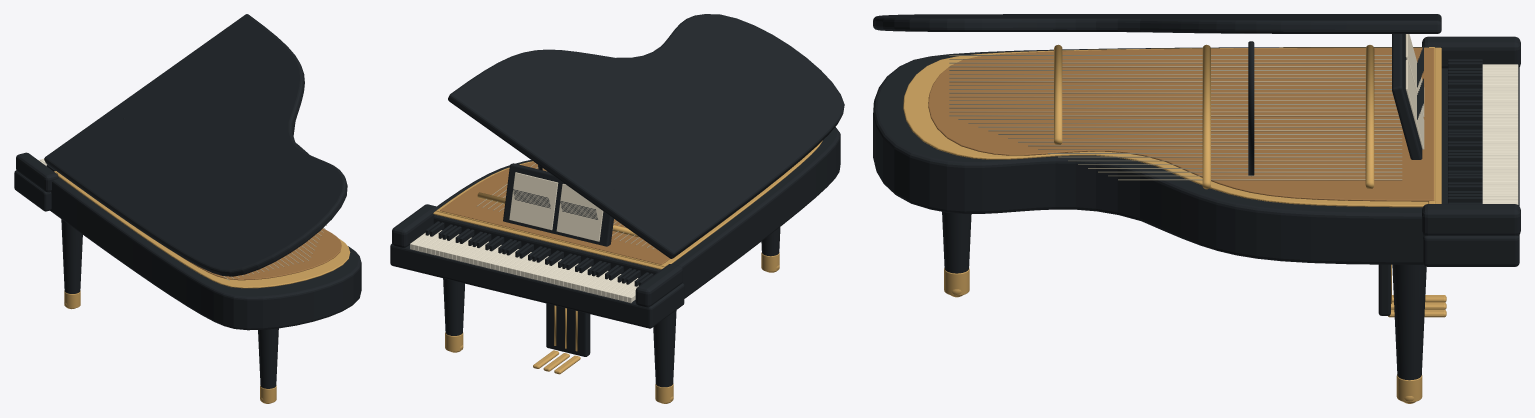
The model's file is grand-piano.glb.
The picture shows the model from 3 angles, left to right: view 1: azimuth 30°, elevation 25°; view 2: azimuth 150°, elevation 25°; view 3: azimuth 270°, elevation 25°; orthographic projection. The views are drawn at different scales.
Visible parts, largest first — view 1: Open sculpted piano lid.001, Grand piano sculpted rim.001, Gold cast iron frame.001, Maple resonant soundboard.001, Tapered piano leg.003, Tapered piano leg.005, Keyboard cheek.002, Keyboard bed.001; view 2: Open sculpted piano lid.001, Grand piano sculpted rim.001, Keyboard bed.001, Maple resonant soundboard.001, Score page.003, Gold cast iron frame.001, Pedal lyre.001, Score page.002, Music desk.001, Tapered piano leg.003, Keyboard cheek.002, Keyboard cheek.003 (+3 smaller); view 3: Maple resonant soundboard.001, Grand piano sculpted rim.001, Open sculpted piano lid.001, Gold cast iron frame.001, Keyboard bed.001, Tapered piano leg.004, Keyboard cheek.003, Keyboard cheek.002, Music desk.001, Tapered piano leg.005, Frame brace.003, Frame brace.004 (+22 smaller).
Boxes of the visible parts, x1,y1,x2,y2 form: Open sculpted piano lid.001: [44, 14, 347, 276]; Grand piano sculpted rim.001: [50, 142, 361, 330]; Gold cast iron frame.001: [54, 171, 350, 288]; Maple resonant soundboard.001: [174, 228, 341, 280]; Tapered piano leg.003: [61, 219, 82, 293]; Tapered piano leg.005: [258, 328, 278, 388]; Keyboard cheek.002: [16, 152, 58, 192]; Keyboard bed.001: [14, 170, 51, 211]; Open sculpted piano lid.001: [448, 14, 844, 258]; Grand piano sculpted rim.001: [433, 127, 840, 298]; Keyboard bed.001: [390, 230, 684, 328]; Maple resonant soundboard.001: [440, 162, 669, 264]; Score page.003: [509, 172, 558, 230]; Gold cast iron frame.001: [433, 140, 822, 269]; Pedal lyre.001: [546, 303, 590, 356]; Score page.002: [556, 184, 603, 241]; Music desk.001: [503, 163, 614, 246]; Tapered piano leg.003: [653, 310, 676, 387]; Keyboard cheek.002: [635, 264, 682, 307]; Keyboard cheek.003: [392, 204, 438, 247]; Maple resonant soundboard.001: [928, 48, 1434, 201]; Grand piano sculpted rim.001: [873, 47, 1423, 264]; Open sculpted piano lid.001: [873, 14, 1441, 33]; Gold cast iron frame.001: [903, 47, 1441, 207]; Keyboard bed.001: [1423, 67, 1519, 266]; Tapered piano leg.004: [1392, 264, 1426, 380]; Keyboard cheek.003: [1422, 204, 1520, 235]; Keyboard cheek.002: [1422, 36, 1520, 68]; Music desk.001: [1392, 15, 1422, 159]; Tapered piano leg.005: [942, 211, 971, 273]; Frame brace.003: [1365, 45, 1374, 188]; Frame brace.004: [1202, 44, 1210, 189].
Size of the model in its own units: 1.72 by 1.68 by 2.62.
